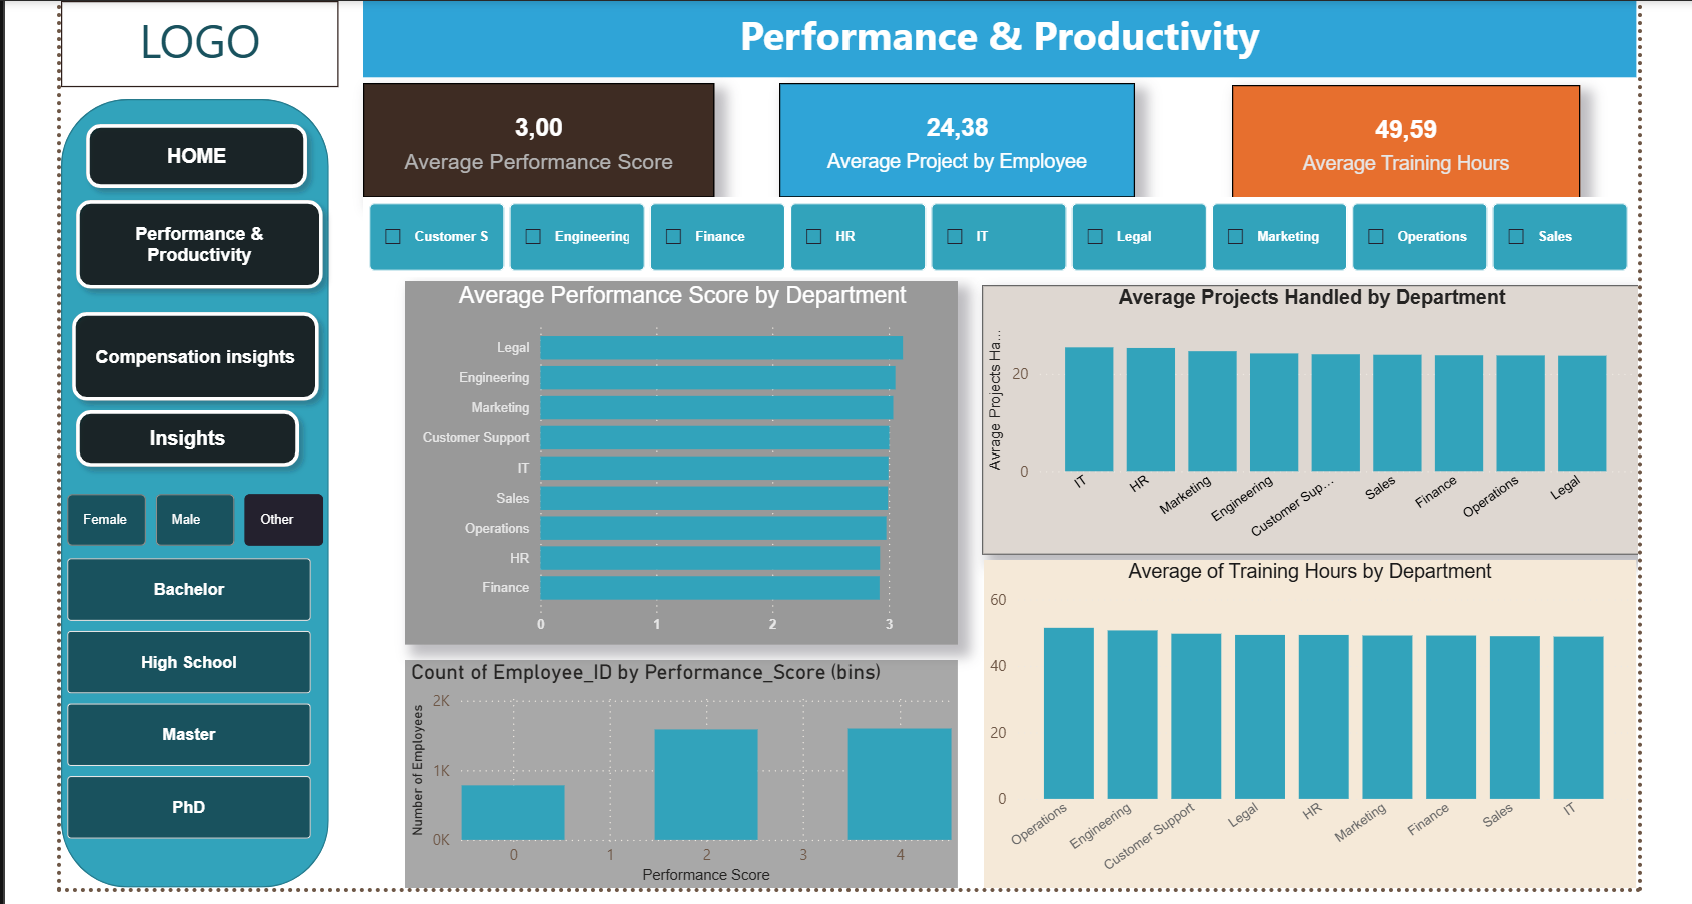

The dashboard page shown, as its layout file describes it:
{"tool":"powerbi","page":{"name":"Performance ","canvas":[1280,720],"ordinal":1},"visuals":[{"type":"card","fields":{"Values":["Avg(Extended_Employee_Performance_and_Productivity_Data.Performance_Score)"]},"box":[245.7,67.1,285.7,92.9],"z":0},{"type":"card","fields":{"Values":["Extended_Employee_Performance_and_Productivity_Data.AVRAGE_PROJECT_PER_EMPLOYER"]},"box":[584.3,67.1,288.6,92.9],"z":1000},{"type":"card","fields":{"Values":["Avg(Extended_Employee_Performance_and_Productivity_Data.Training_Hours)"]},"box":[950,68.6,282.9,92.9],"z":2000},{"type":"clusteredBarChart","title":"Average Performance Score by Department","fields":{"Category":["Extended_Employee_Performance_and_Productivity_Data.Department"],"Y":["Avg(Extended_Employee_Performance_and_Productivity_Data.Performance_Score)"]},"box":[280,227.1,448.6,294.3],"z":3000},{"type":"clusteredColumnChart","title":"Average Projects Handled by Department","fields":{"Category":["Extended_Employee_Performance_and_Productivity_Data.Department"],"Y":["Avg(Extended_Employee_Performance_and_Productivity_Data.Projects_Handled)"]},"box":[747.1,230,534.3,218.6],"z":4000},{"type":"clusteredColumnChart","fields":{"Category":["Extended_Employee_Performance_and_Productivity_Data.Department"],"Y":["Avg(Extended_Employee_Performance_and_Productivity_Data.Training_Hours)"]},"box":[750,452.9,530,267.1],"z":5000},{"type":"clusteredColumnChart","fields":{"Category":["Extended_Employee_Performance_and_Productivity_Data.Performance_Score (bins)"],"Y":["CountNonNull(Extended_Employee_Performance_and_Productivity_Data.Employee_ID)"]},"box":[280,535,448.3,186.7],"z":6000},{"type":"textbox","box":[246,0,1034,62],"z":7000},{"type":"shape","box":[0,80,217.5,640],"z":8000},{"type":"actionButton","box":[10.8,90.8,197.5,70],"z":9000},{"type":"actionButton","box":[3.3,153.3,218.3,90],"z":10000},{"type":"actionButton","box":[0,243.3,218.3,90],"z":11000},{"type":"advancedSlicerVisual","fields":{"Values":["Extended_Employee_Performance_and_Productivity_Data.Gender"]},"box":[0,395,218.8,52.5],"z":12000},{"type":"advancedSlicerVisual","fields":{"Values":["Extended_Employee_Performance_and_Productivity_Data.Education_Level"]},"box":[0,447.5,208.8,240],"z":13000},{"type":"advancedSlicerVisual","fields":{"Values":["Extended_Employee_Performance_and_Productivity_Data.Department"]},"box":[245,160,1036.7,65],"z":14000},{"type":"textbox","box":[0,0,225,56.7],"z":15000},{"type":"actionButton","box":[3.3,323.3,199.2,63.3],"z":16000},{"type":"textbox","box":[0,0,225.7,70],"z":17000}]}

Visuals, with their boxes in screenshot pixels (x1, y1, x2, y2):
card - Avg(Extended_Employee_Performance_and_Productivity_Data.Performance_Score): <region>357, 79, 710, 194</region>
card - Extended_Employee_Performance_and_Productivity_Data.AVRAGE_PROJECT_PER_EMPLOYER: <region>776, 79, 1133, 194</region>
card - Avg(Extended_Employee_Performance_and_Productivity_Data.Training_Hours): <region>1228, 80, 1578, 195</region>
"Average Performance Score by Department" clusteredBarChart: <region>399, 277, 954, 641</region>
"Average Projects Handled by Department" clusteredColumnChart: <region>977, 280, 1638, 551</region>
clusteredColumnChart - Extended_Employee_Performance_and_Productivity_Data.Department x Avg(Extended_Employee_Performance_and_Productivity_Data.Training_Hours): <region>981, 556, 1637, 886</region>
clusteredColumnChart - Extended_Employee_Performance_and_Productivity_Data.Performance_Score (bins) x CountNonNull(Extended_Employee_Performance_and_Productivity_Data.Employee_ID): <region>399, 657, 954, 888</region>
textbox: <region>357, 0, 1637, 72</region>
shape: <region>53, 95, 322, 886</region>
actionButton: <region>66, 108, 311, 195</region>
actionButton: <region>57, 185, 327, 297</region>
actionButton: <region>53, 297, 323, 408</region>
advancedSlicerVisual - Extended_Employee_Performance_and_Productivity_Data.Gender: <region>53, 484, 324, 549</region>
advancedSlicerVisual - Extended_Employee_Performance_and_Productivity_Data.Education_Level: <region>53, 549, 311, 846</region>
advancedSlicerVisual - Extended_Employee_Performance_and_Productivity_Data.Department: <region>356, 194, 1639, 274</region>
textbox: <region>53, 0, 331, 66</region>
actionButton: <region>57, 396, 303, 474</region>
textbox: <region>53, 0, 332, 82</region>
